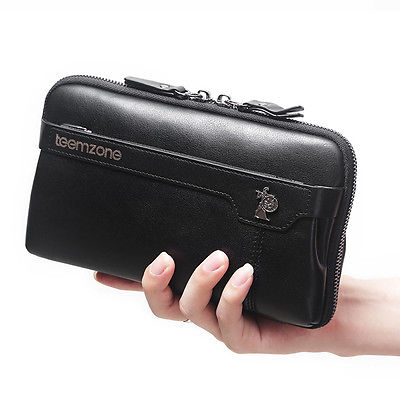monedero: (25, 73, 357, 329)
